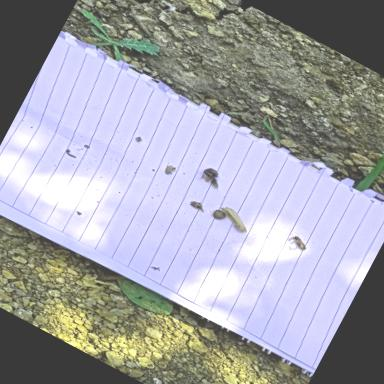abw: (216, 205, 256, 236)
pbw: (161, 162, 175, 176)
